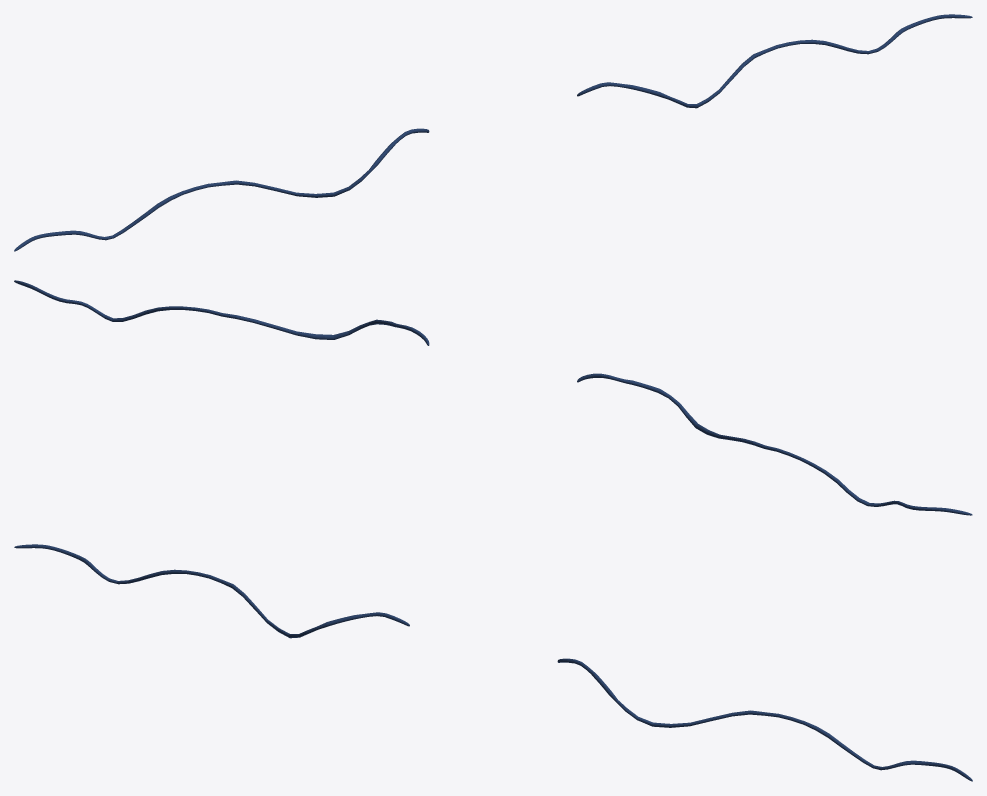
The model's file is Vena Cefálica.FBX.
3 views of the same model, one above another, from view 1: azimuth 30°, elevation 25°; view 2: azimuth 150°, elevation 25°; view 3: azimuth 330°, elevation 25° (orthographic).
Parts seen in each view (by area): view 1: CS_Veins; view 2: CS_Veins; view 3: CS_Veins.
Part boxes in pixels (x1,y1,x2,y2): CS_Veins: (14, 14, 972, 251); CS_Veins: (14, 280, 972, 515); CS_Veins: (14, 544, 972, 781).
Bounding box in the file's own units: 3441 × 176 × 221.
